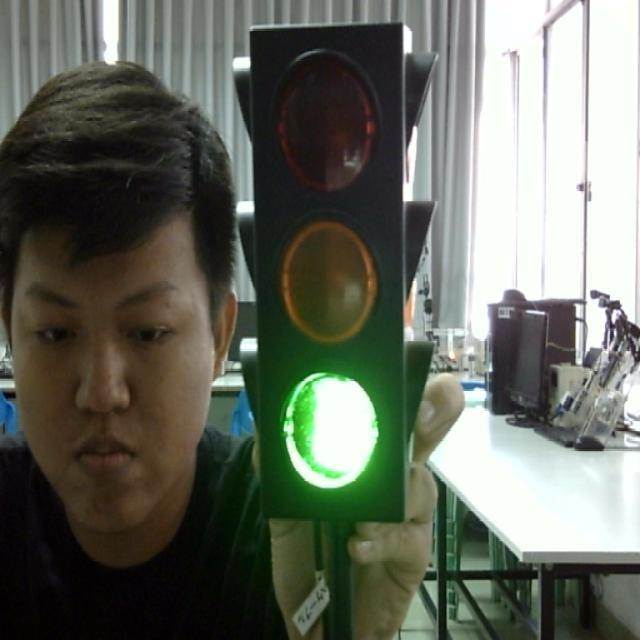green_light: (239, 27, 425, 531)
